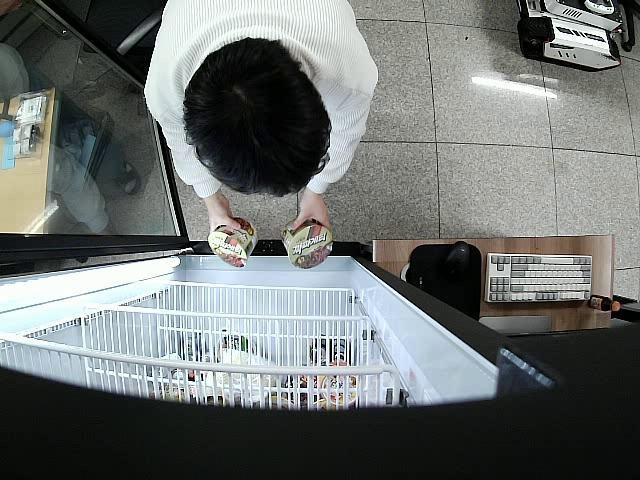03_chapagetti_L: (208, 216, 260, 269), (282, 220, 334, 269)
